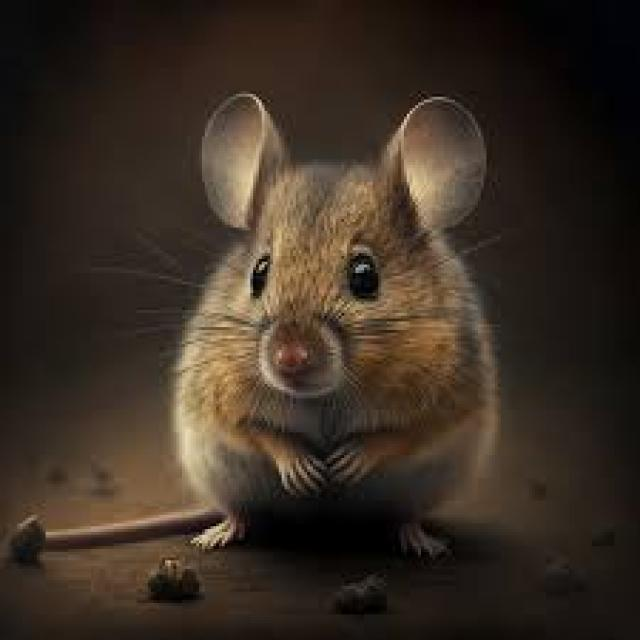Rat: (91, 69, 540, 574)
